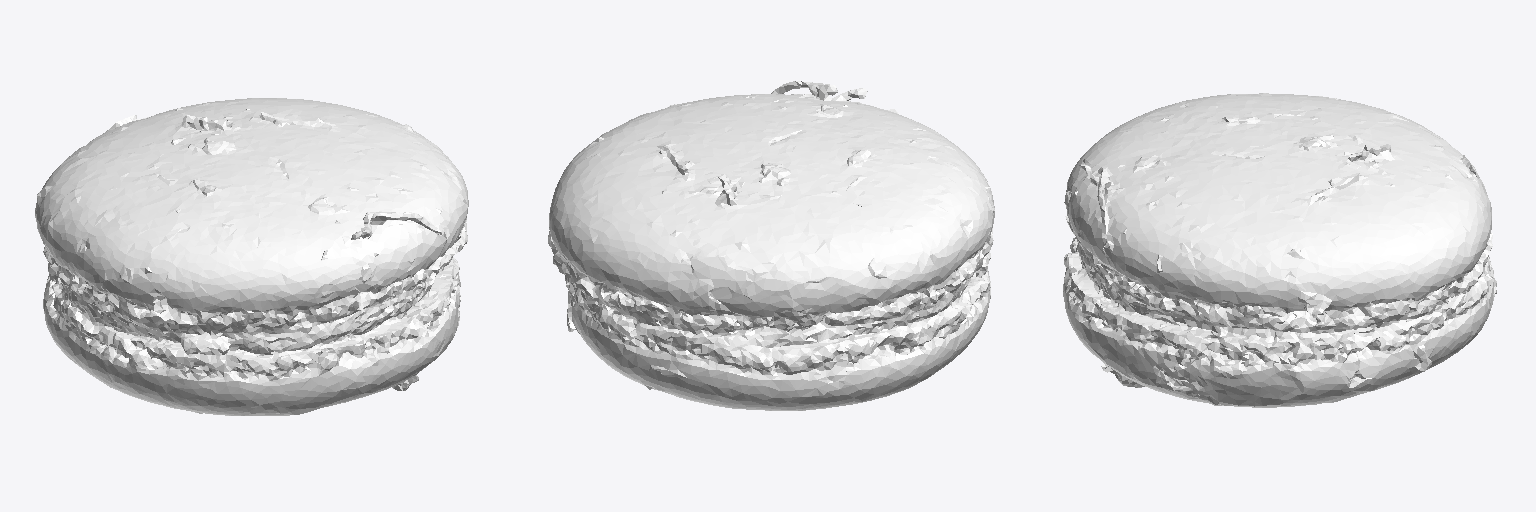
File: macaron.obj
3 views of the same model, side by side, from view 1: azimuth 30°, elevation 25°; view 2: azimuth 150°, elevation 25°; view 3: azimuth 270°, elevation 25° (orthographic).
Parts seen in each view (by area): view 1: laduree_macaron_20k; view 2: laduree_macaron_20k; view 3: laduree_macaron_20k.
Part boxes in pixels (bbox=[...]): laduree_macaron_20k: bbox=[35, 98, 468, 415]; laduree_macaron_20k: bbox=[548, 81, 994, 410]; laduree_macaron_20k: bbox=[1063, 93, 1496, 407].
Bounding box in the file's own units: 28.91 × 15.3 × 28.28.